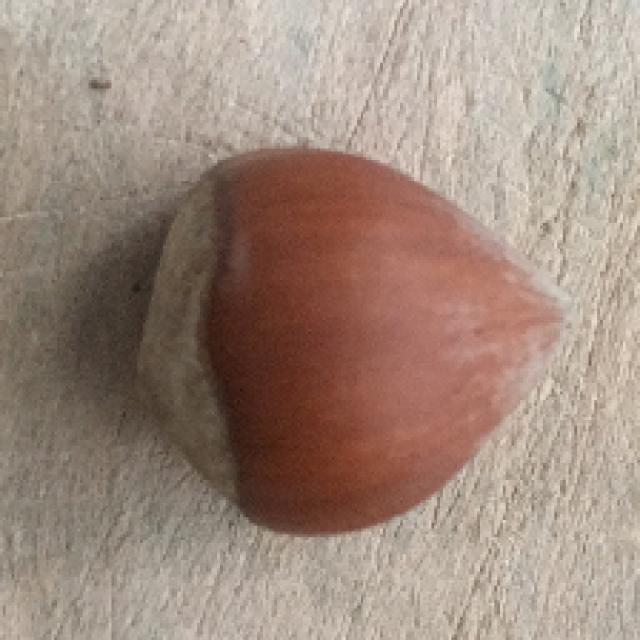qualityHazelnut: (119, 134, 570, 542)
